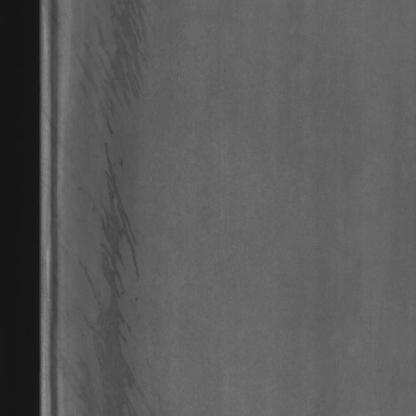water_spot: (70, 1, 159, 405)
